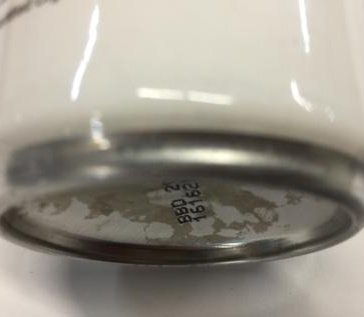Metal: (4, 16, 329, 271)
